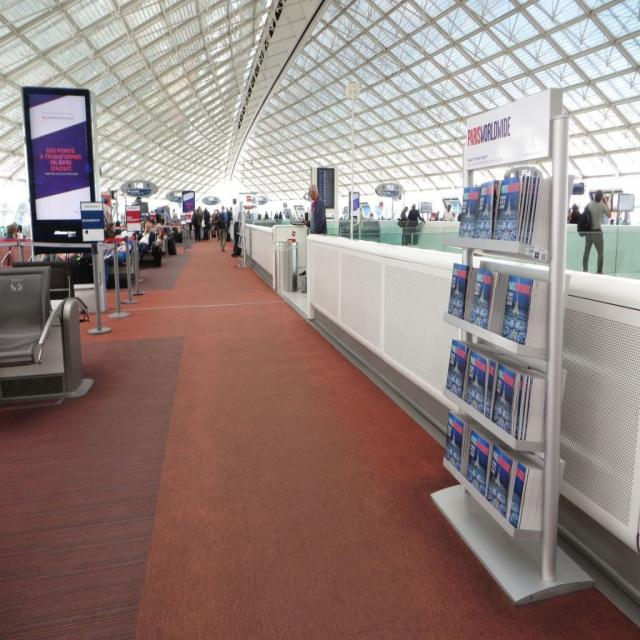body: (580, 188, 612, 275), (104, 230, 138, 287), (300, 183, 328, 235), (136, 221, 158, 261), (406, 202, 425, 248), (214, 204, 229, 253), (210, 207, 230, 240), (396, 204, 410, 247), (190, 208, 202, 244), (103, 198, 113, 232), (105, 218, 121, 238), (4, 221, 20, 240), (565, 204, 579, 225), (201, 206, 210, 237), (162, 204, 174, 226), (225, 206, 232, 242), (5, 225, 23, 239), (440, 203, 453, 222), (452, 200, 463, 218), (198, 206, 204, 236), (170, 207, 178, 220), (273, 210, 279, 226), (284, 208, 292, 220), (264, 210, 269, 219), (278, 211, 283, 220), (246, 209, 250, 220), (609, 217, 615, 224)
